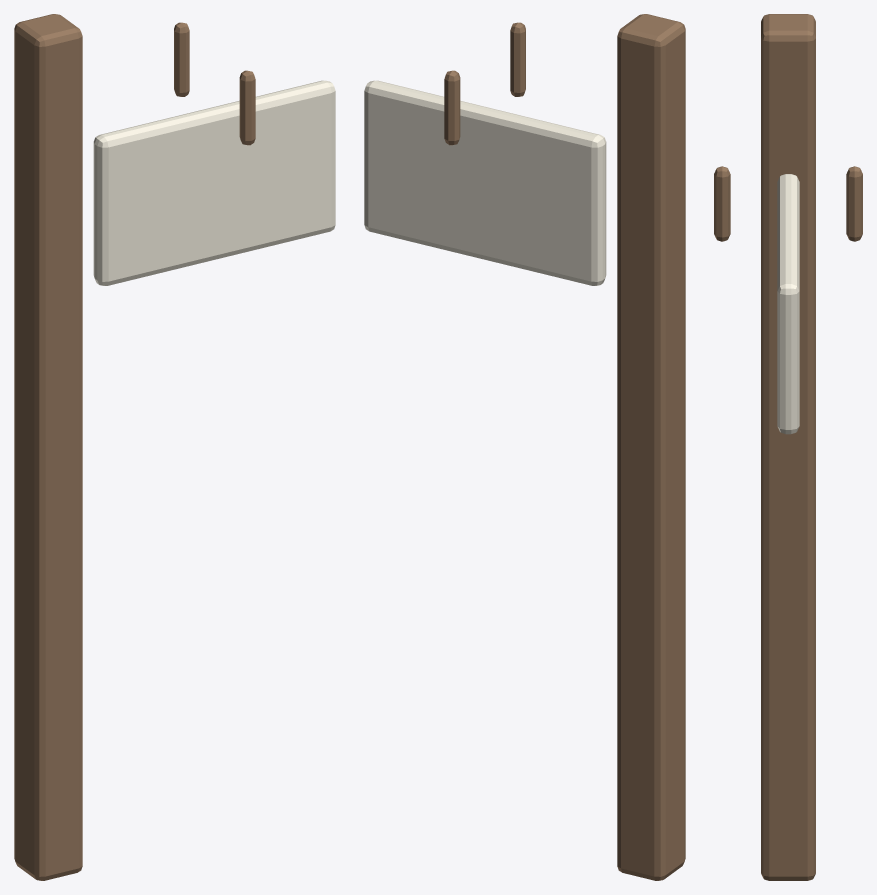
File: signpost.glb
3 renders of one model, left to right at view 1: azimuth 30°, elevation 25°; view 2: azimuth 150°, elevation 25°; view 3: azimuth 270°, elevation 25°, orthographic.
Parts seen in each view (by area): view 1: Signpost; view 2: Signpost; view 3: Signpost.
Part boxes in pixels (box(x1,y1,x2,y2)): Signpost: box(14, 14, 335, 880); Signpost: box(364, 14, 685, 880); Signpost: box(714, 14, 862, 880).
Bounding box in the file's own units: 0.65 × 1.7 × 0.27.
